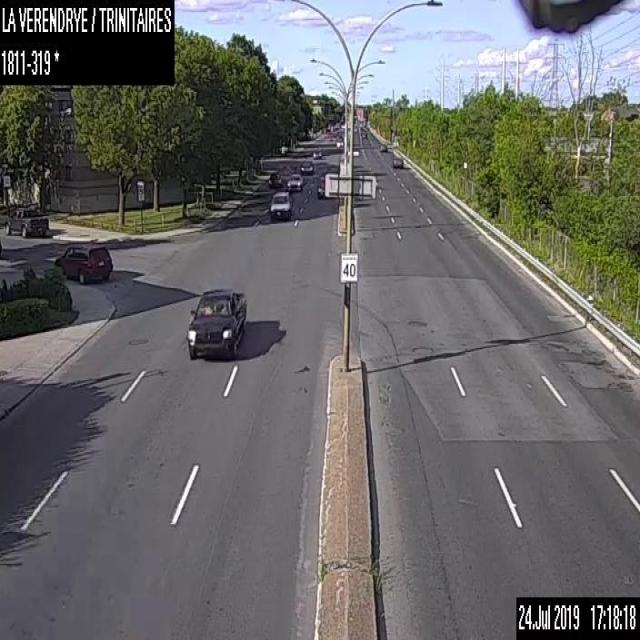vehicle: (186, 287, 247, 357), (52, 241, 113, 283), (4, 205, 49, 238), (268, 190, 293, 219), (286, 173, 302, 190), (268, 172, 284, 187), (316, 175, 324, 198), (300, 159, 313, 173), (392, 156, 402, 168), (312, 149, 322, 158), (334, 139, 342, 148), (378, 142, 386, 151), (361, 132, 366, 138)
